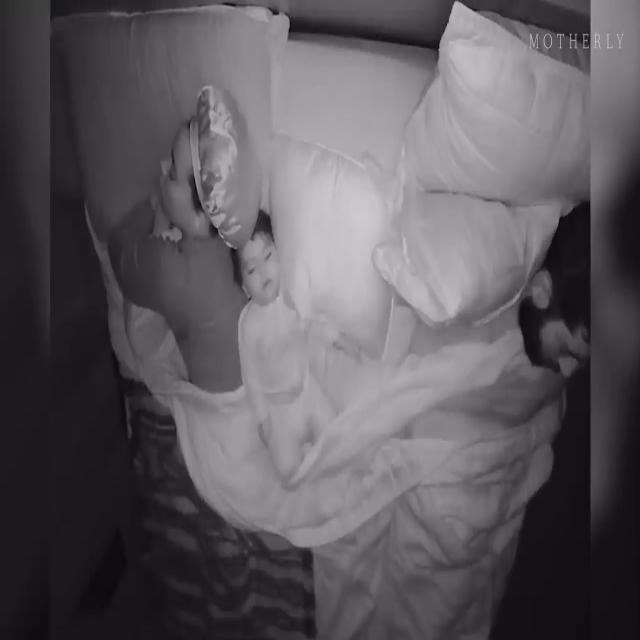baby: (231, 210, 345, 489)
